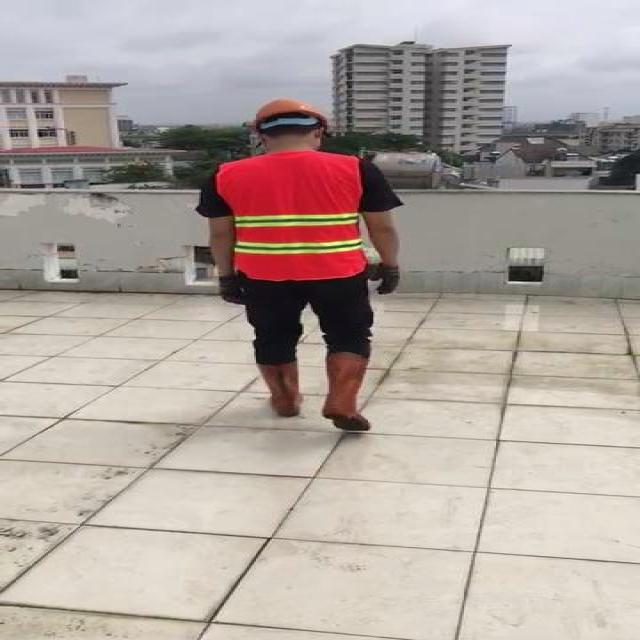boots: (322, 352, 375, 434), (260, 360, 302, 417)
hand_glove: (375, 264, 402, 293), (219, 275, 245, 304)
head_helmet: (249, 98, 327, 132)
person: (194, 98, 405, 436)
vest: (220, 150, 364, 279)
